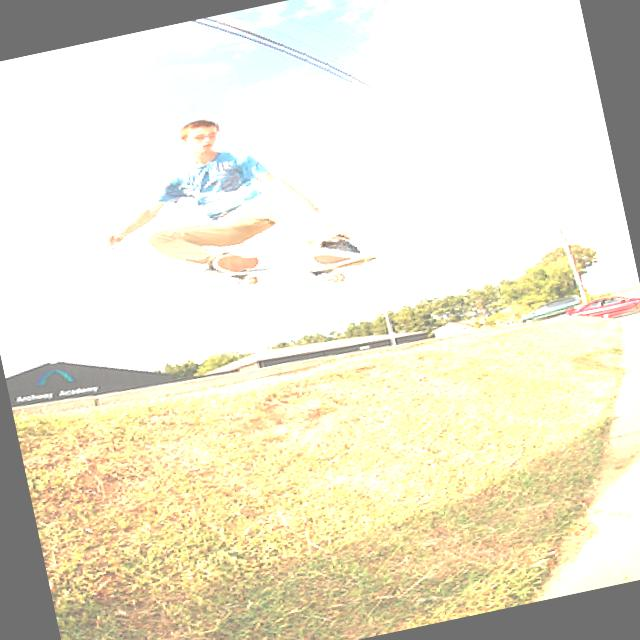Vehicle: (566, 288, 640, 325), (517, 293, 588, 326)
